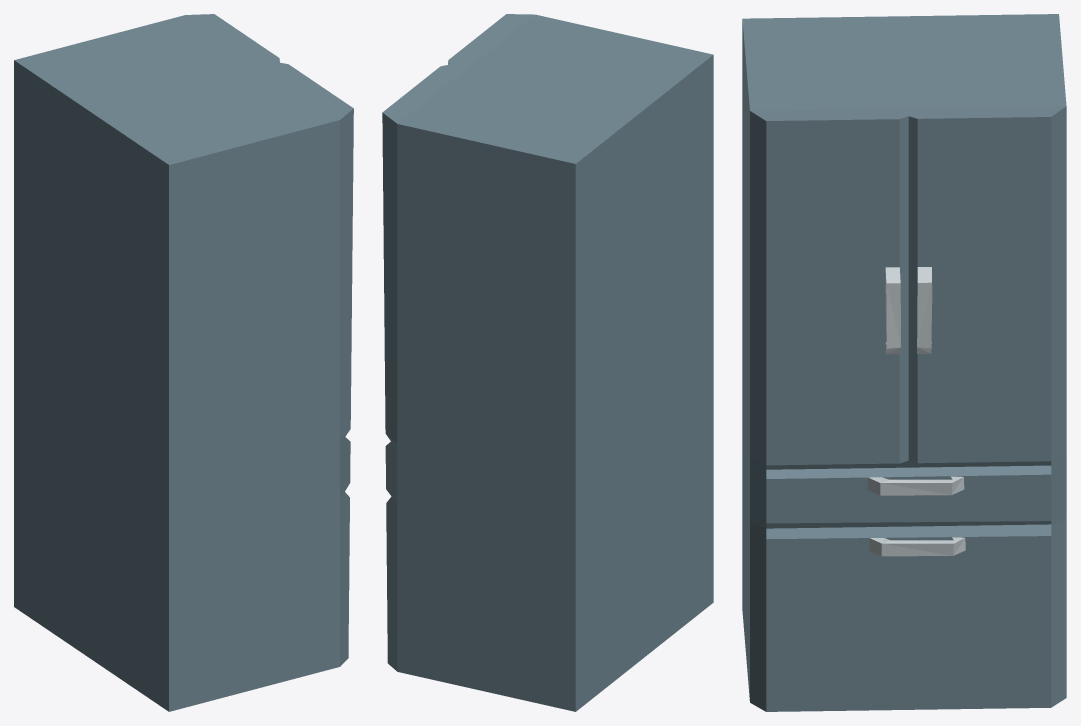
File: RefridgeratorPoly_02_1Blv52jDwd1.fbx
The picture shows the model from 3 angles, left to right: view 1: azimuth 30°, elevation 25°; view 2: azimuth 150°, elevation 25°; view 3: azimuth 270°, elevation 25°; orthographic projection. The views are drawn at different scales.
Visible parts, largest first — view 1: mesh_1207607877; view 2: mesh_1207607877; view 3: mesh_1207607877, group_1076759998, group_1025514721, group_1726520313, group_1076083137.
Boxes of the visible parts, x1,y1,x2,y2 form: mesh_1207607877: (14,14,353,711); mesh_1207607877: (382,14,713,711); mesh_1207607877: (742,14,1066,711); group_1076759998: (868,476,964,495); group_1025514721: (869,537,965,556); group_1726520313: (885,267,900,354); group_1076083137: (917,267,932,354).
Size of the model in its own units: 38.91 by 97.27 by 48.12.
